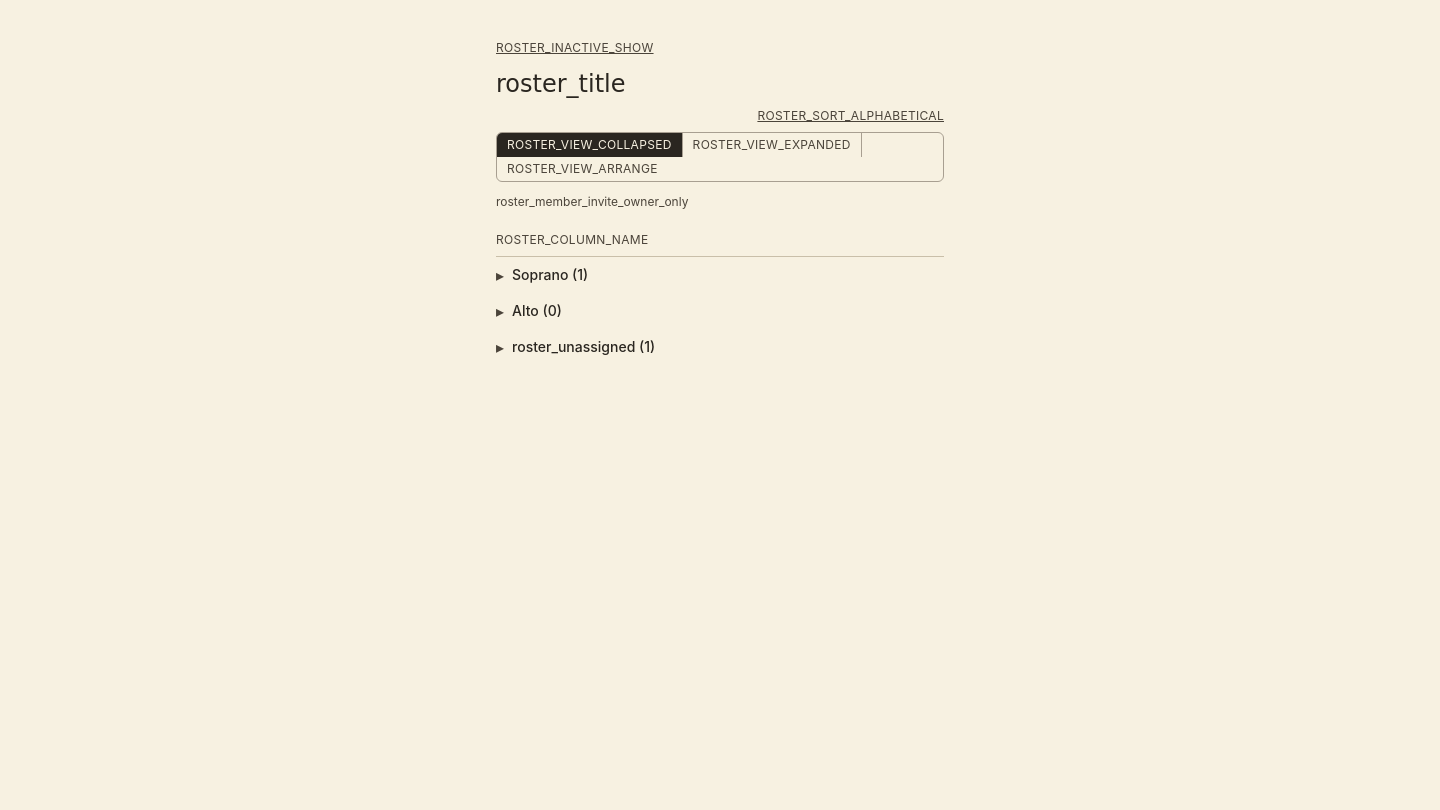
Test case: /roster — a failed createSection is SAID, not just logged (re-driven through roster-new-section per #470) › createSection rejects: a role=alert create-failed message renders in the form, and no section row is invented; no member is assigned
Expected: the element with test id "roster-groups" is shown, top-left (496, 257), bottom-right (944, 365)
Click the button "roster_view_arrange".
click(582, 169)  # box top-left (497, 157), bottom-right (668, 181)
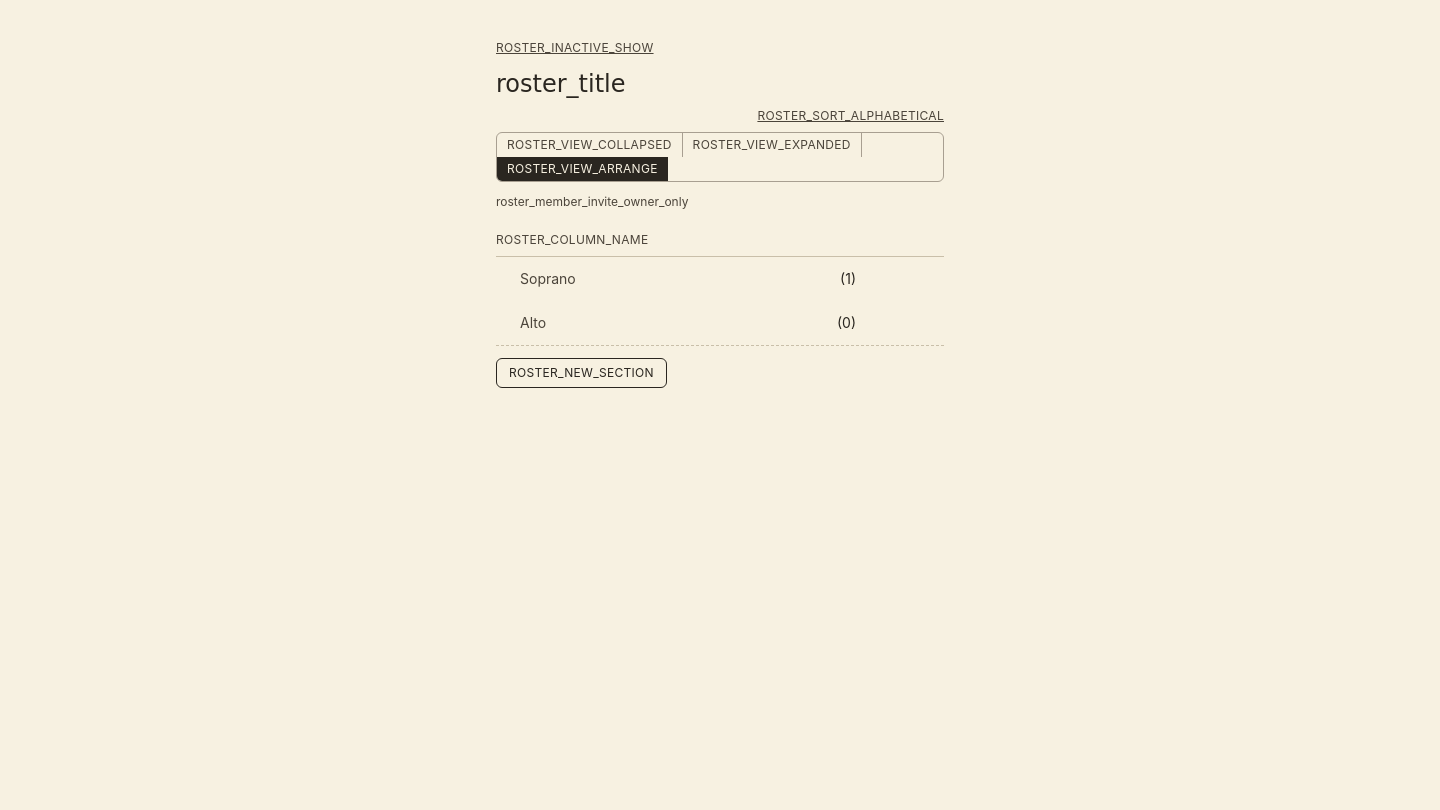
Click the button "roster_new_section".
click(581, 373)  # box top-left (496, 358), bottom-right (667, 388)
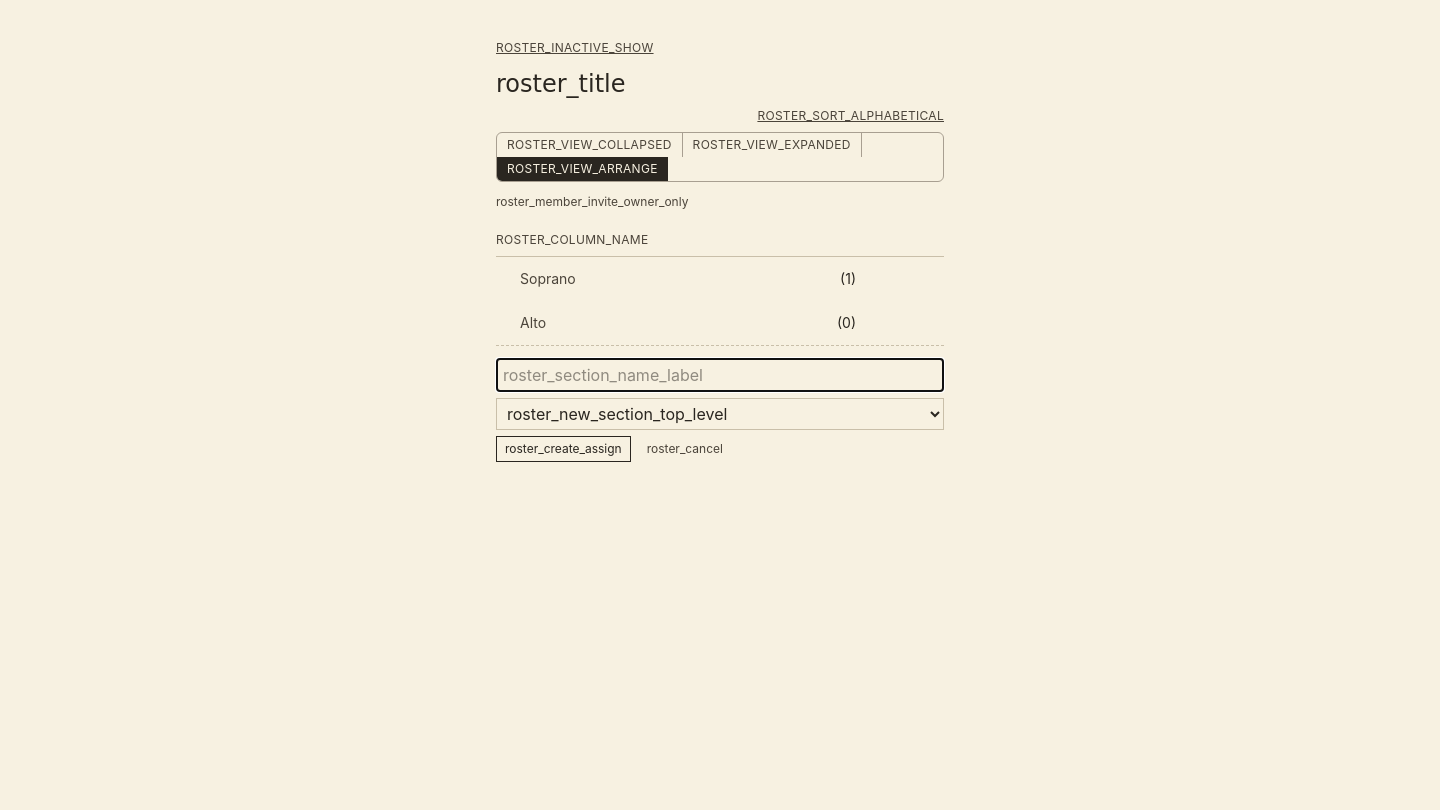
Type "Tenor" into the field with placeholder "roster_section_name_label".
click(720, 375); type("Tenor")  # box top-left (496, 358), bottom-right (944, 392)
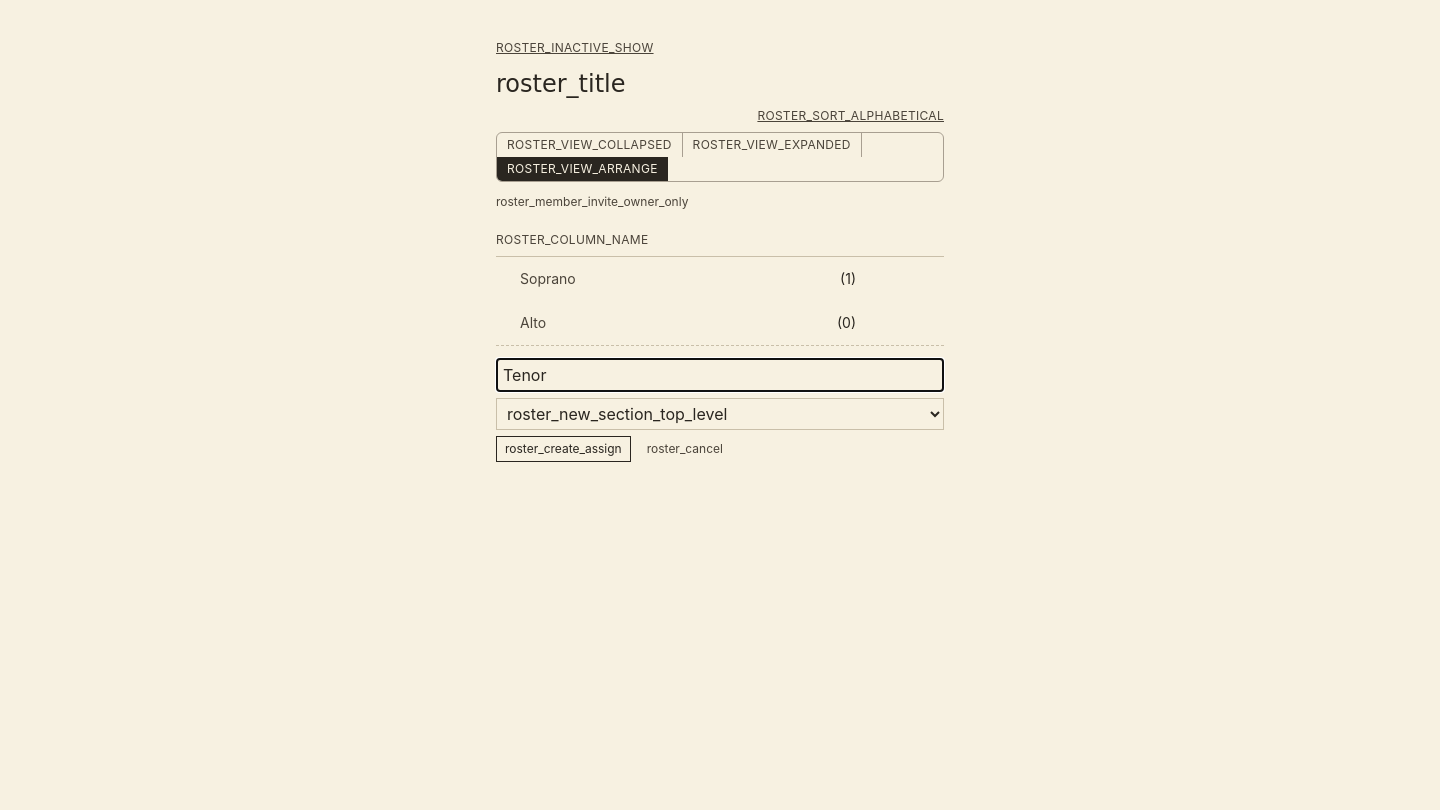
Click the button "roster_create_assign".
click(563, 449)  # box top-left (496, 436), bottom-right (631, 462)
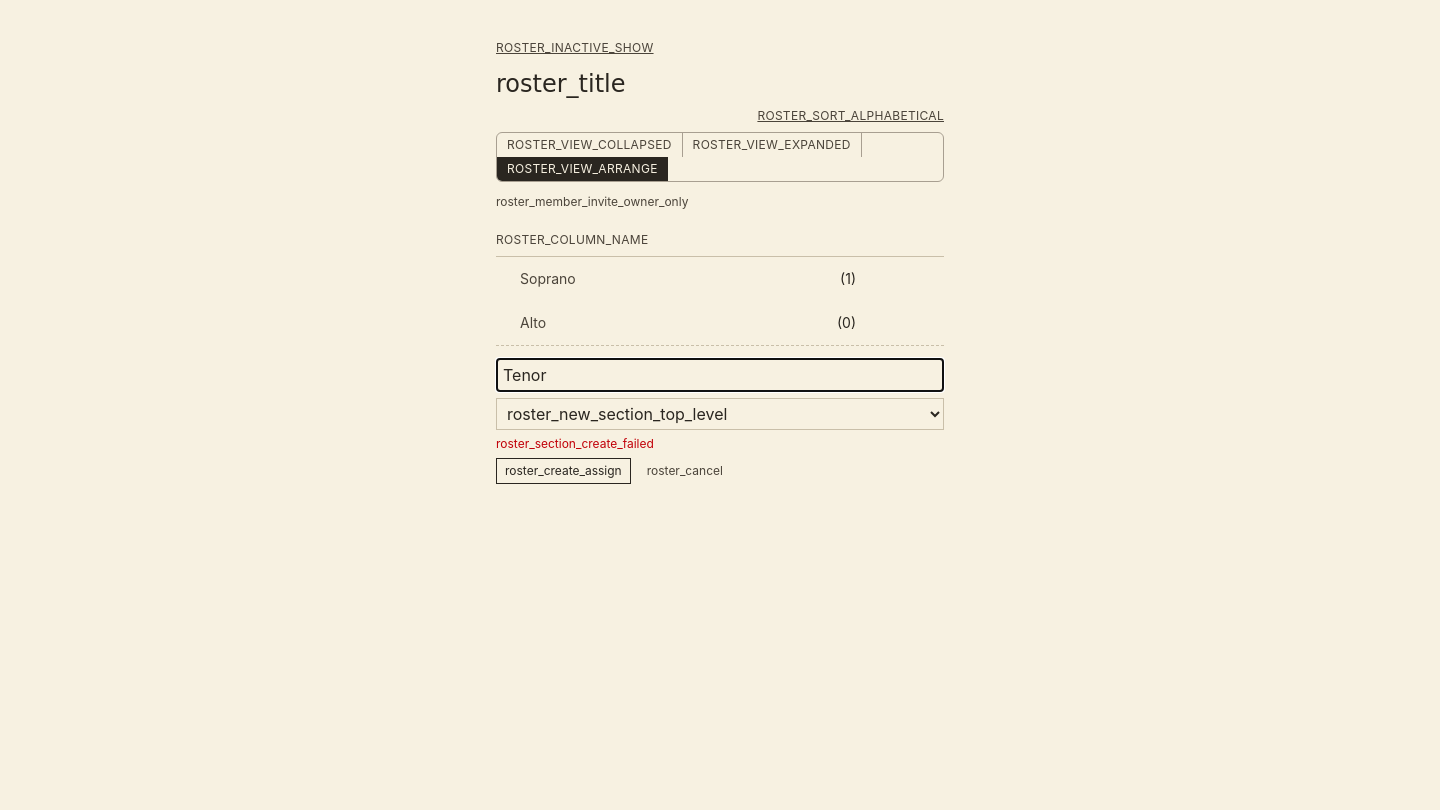
Now the message "roster_section_create_failed" is shown, box top-left (496, 436), bottom-right (654, 451)
